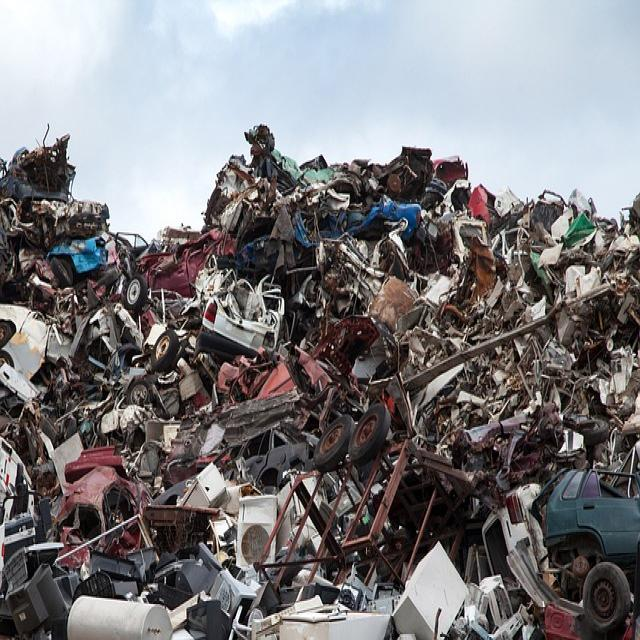metal: (52, 231, 550, 566)
